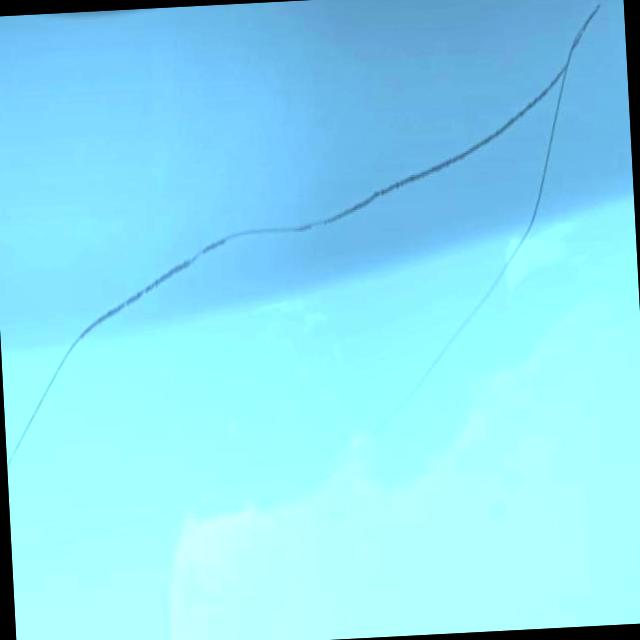crack: (0, 56, 577, 420), (392, 219, 591, 399)
